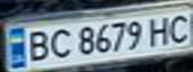6: (93, 20, 115, 54)
7: (109, 19, 130, 52)
8: (75, 24, 96, 56)
9: (124, 17, 148, 51)
B: (21, 28, 54, 63)
C: (45, 26, 75, 61), (163, 11, 193, 44)
H: (145, 13, 175, 46)
